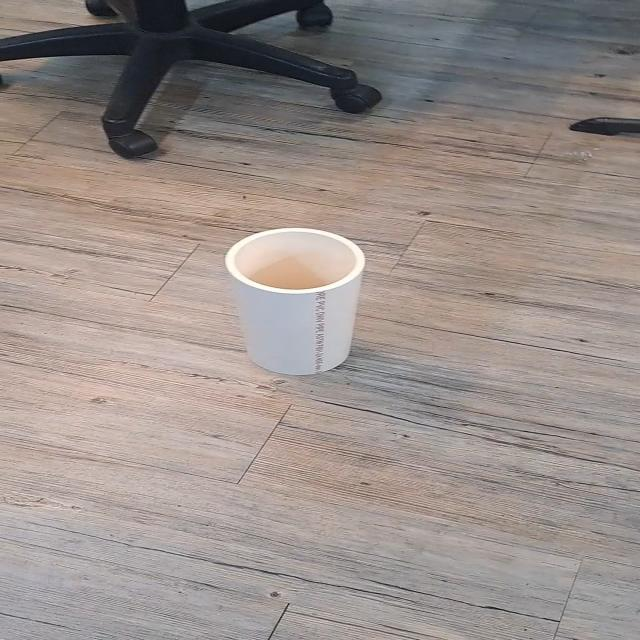CORAL: (205, 208, 395, 388)
